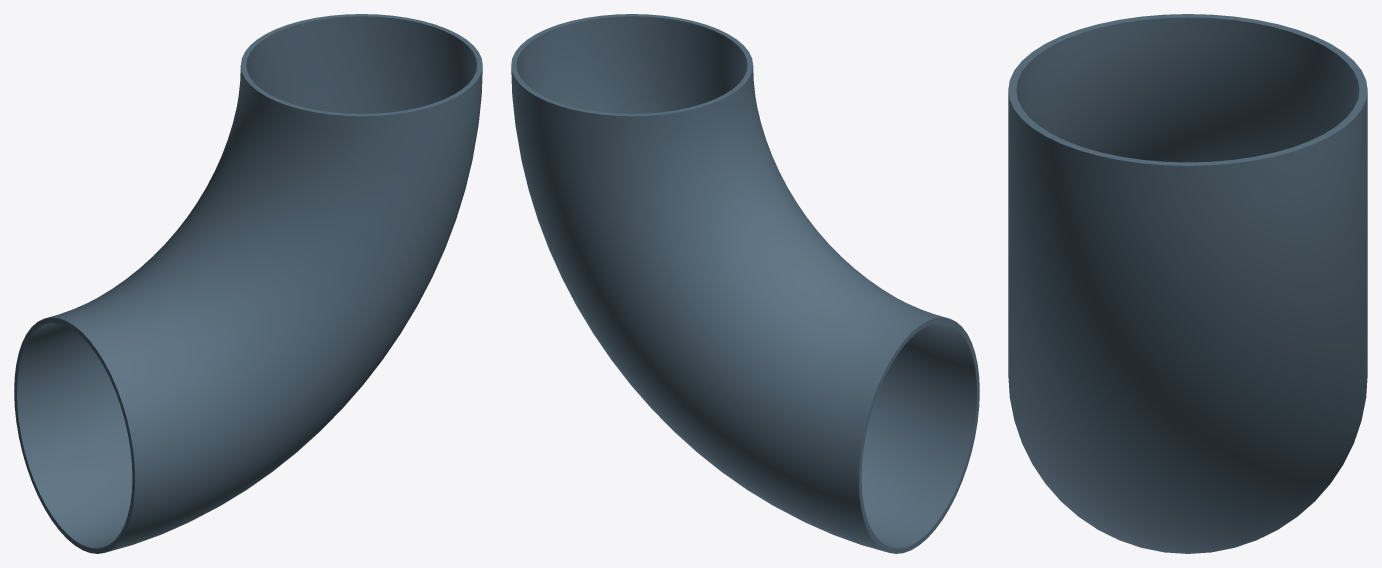
The model's file is otvod-90-219x5-R300.glb.
3 views of the same model, side by side, from view 1: azimuth 30°, elevation 25°; view 2: azimuth 150°, elevation 25°; view 3: azimuth 270°, elevation 25° (orthographic). The views are drawn at different scales.
Parts seen in each view (by area): view 1: Open CASCADE STEP translator 7.9 64; view 2: Open CASCADE STEP translator 7.9 64; view 3: Open CASCADE STEP translator 7.9 64.
Part boxes in pixels (x1,y1,x2,y2): Open CASCADE STEP translator 7.9 64: [14, 14, 482, 553]; Open CASCADE STEP translator 7.9 64: [511, 14, 979, 553]; Open CASCADE STEP translator 7.9 64: [1008, 14, 1367, 553].
Size of the model in its own units: 410 by 410 by 219.
